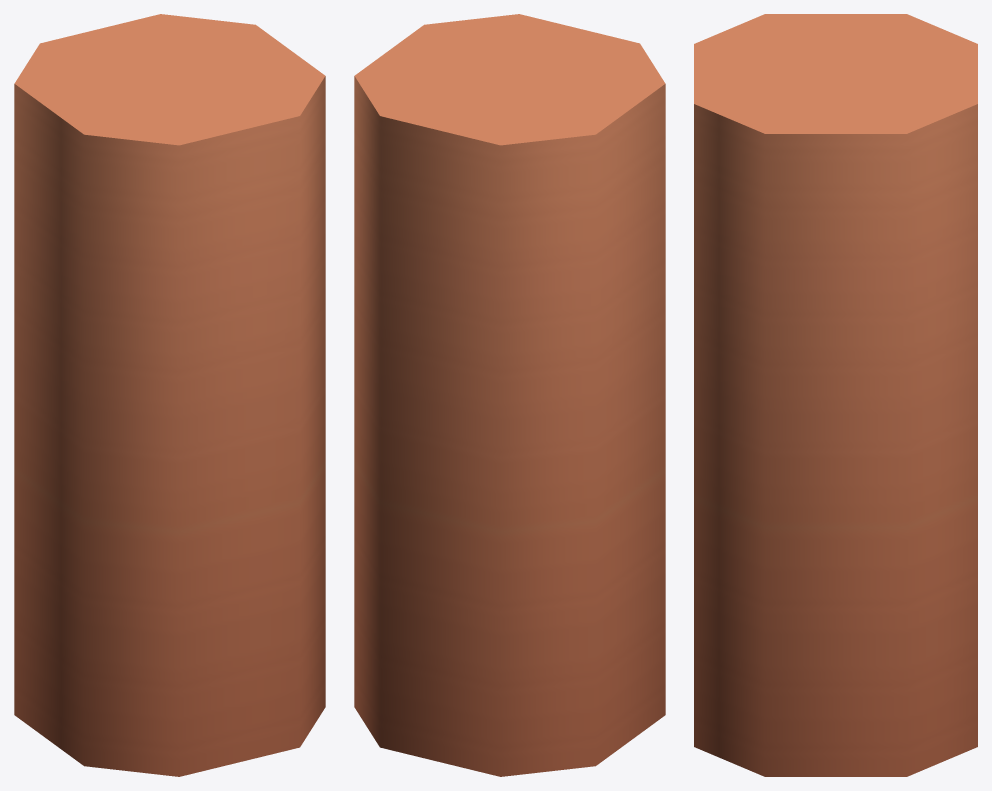
File: support.glb
3 renders of one model, left to right at view 1: azimuth 30°, elevation 25°; view 2: azimuth 150°, elevation 25°; view 3: azimuth 270°, elevation 25°, orthographic.
Visible parts, largest first — view 1: support; view 2: support; view 3: support.
Part boxes in pixels (x1,y1,x2,y2): support: (14, 14, 325, 776); support: (354, 14, 665, 776); support: (694, 14, 977, 776).
Size of the model in its own units: 0.4 by 1 by 0.4.
Materials: 1 (1 with a texture image).
